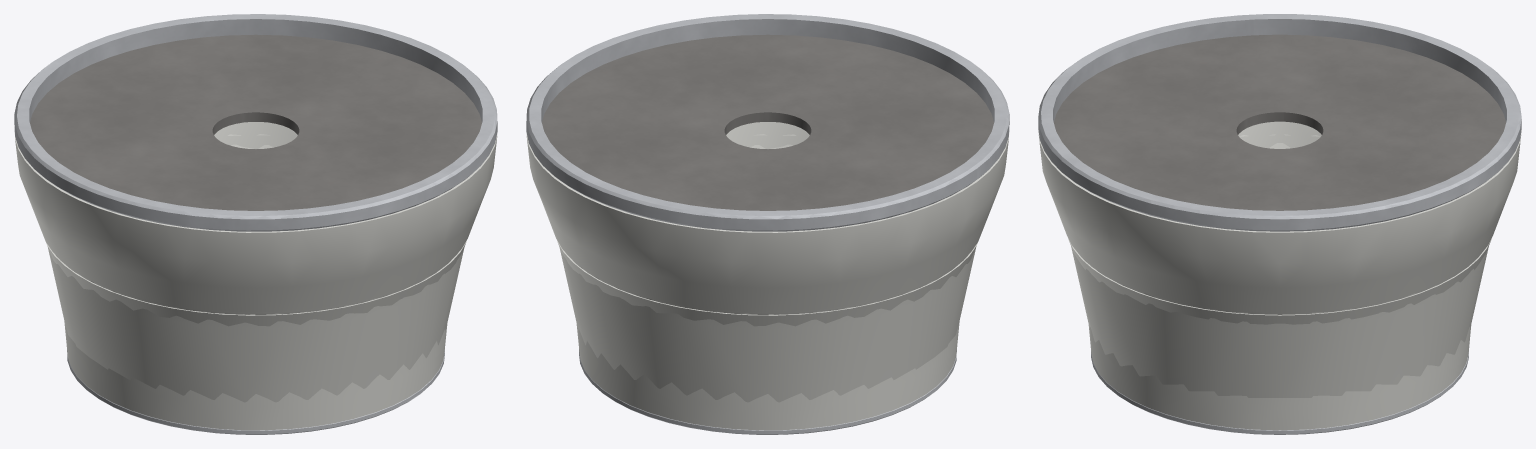
The model's file is ax_struct_11_boat_tail_l.glb.
The picture shows the model from 3 angles, left to right: view 1: azimuth 30°, elevation 25°; view 2: azimuth 150°, elevation 25°; view 3: azimuth 270°, elevation 25°; orthographic projection.
Parts seen in each view (by area): view 1: skirt_shell, thrust_plate, top_ring, bottom_lip; view 2: skirt_shell, thrust_plate, top_ring, bottom_lip; view 3: skirt_shell, thrust_plate, top_ring, bottom_lip.
Part boxes in pixels (<box>): skirt_shell: <box>14,122,497,430</box>; thrust_plate: <box>30,34,481,210</box>; top_ring: <box>14,14,497,231</box>; bottom_lip: <box>67,349,444,434</box>; skirt_shell: <box>526,122,1009,430</box>; thrust_plate: <box>542,34,993,210</box>; top_ring: <box>526,14,1009,231</box>; bottom_lip: <box>579,349,956,434</box>; skirt_shell: <box>1038,121,1521,430</box>; thrust_plate: <box>1054,34,1505,210</box>; top_ring: <box>1038,14,1521,231</box>; bottom_lip: <box>1091,352,1468,434</box>.
Bounding box in the file's own units: 3.75 × 2.06 × 3.75.
4 materials, 3 textured.
